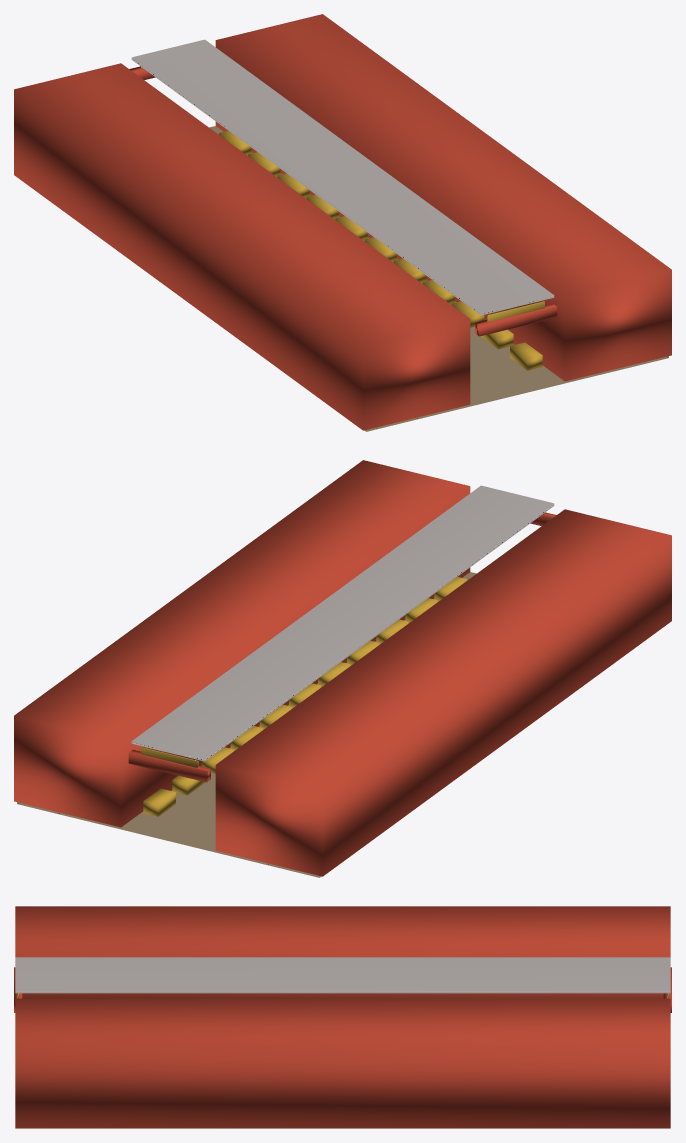
3 renders of one model, top to bottom at view 1: azimuth 30°, elevation 25°; view 2: azimuth 150°, elevation 25°; view 3: azimuth 270°, elevation 25°, orthographic. The views are drawn at different scales.
Parts seen in each view (by area): view 1: building_simplified, floor_simplified; view 2: building_simplified, floor_simplified; view 3: building_simplified, floor_simplified.
Part boxes in pixels (box(x1,y1,x2,y2)): building_simplified: box(14, 14, 671, 430); floor_simplified: box(209, 126, 668, 431); building_simplified: box(14, 460, 671, 876); floor_simplified: box(17, 572, 476, 877); building_simplified: box(14, 906, 671, 1128); floor_simplified: box(15, 1128, 670, 1128).
Bounding box in the file's own units: 24.5 × 6.9 × 48.2.
2 materials, 2 textured.
